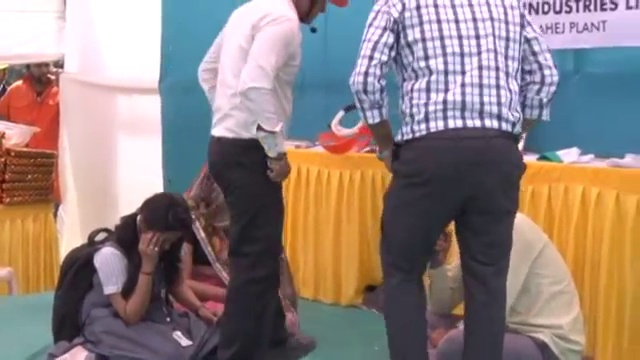helmet: (2, 118, 39, 153)
helmet_off: (125, 191, 188, 255), (189, 172, 237, 228), (286, 2, 345, 33), (425, 221, 463, 268), (24, 53, 55, 86)
person: (352, 0, 558, 359), (196, 0, 347, 359), (46, 188, 218, 358), (174, 168, 318, 356), (424, 212, 590, 360), (0, 54, 65, 158)
